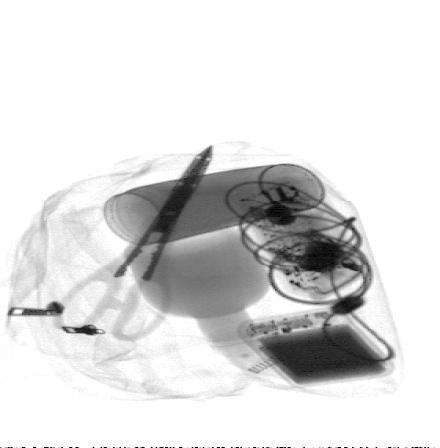Powerbank: (236, 306, 396, 390)
Scissors: (50, 140, 218, 344)
